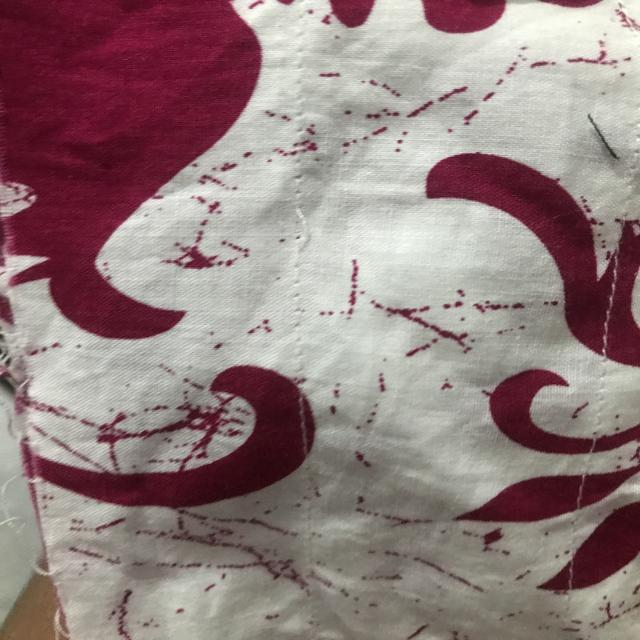skip: (290, 198, 327, 262)
